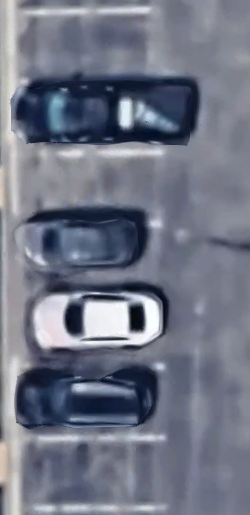Occupied: (12, 73, 162, 152), (13, 295, 163, 367), (14, 367, 164, 439), (13, 223, 163, 294)
Vacant: (12, 151, 162, 224), (15, 439, 165, 509), (13, 9, 162, 74)
